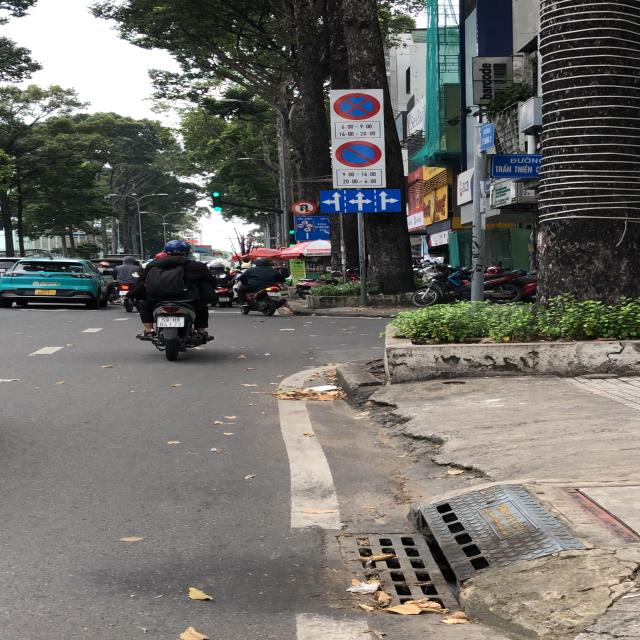Bien bao cam do xe: (334, 140, 389, 172)
Bien bao cam dung xe va do xe: (328, 91, 386, 124)
Bien bao cam quay dau xe: (290, 200, 318, 217)
